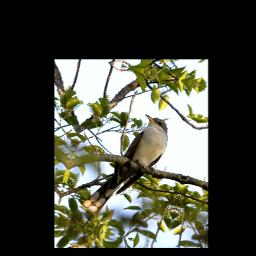Cuckoo: (81, 105, 174, 226)
